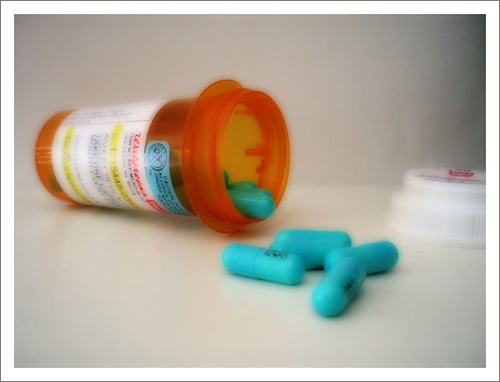pill bottle: (35, 78, 291, 233)
